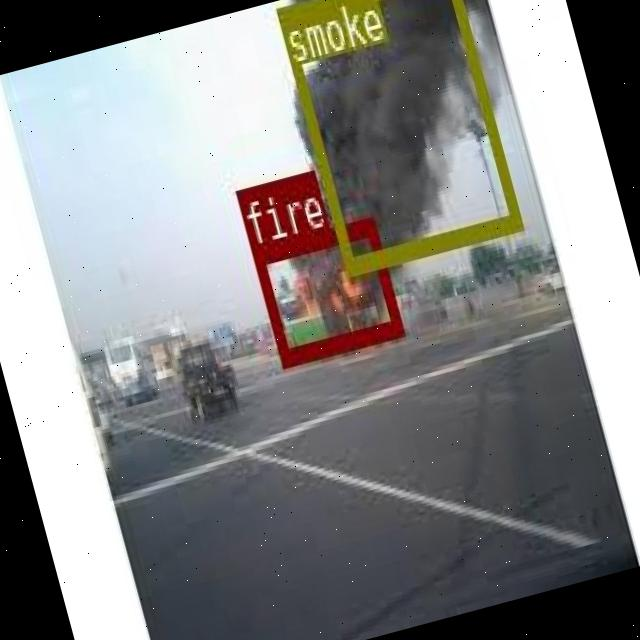fire: (250, 216, 401, 364)
smoke: (273, 0, 520, 275)
